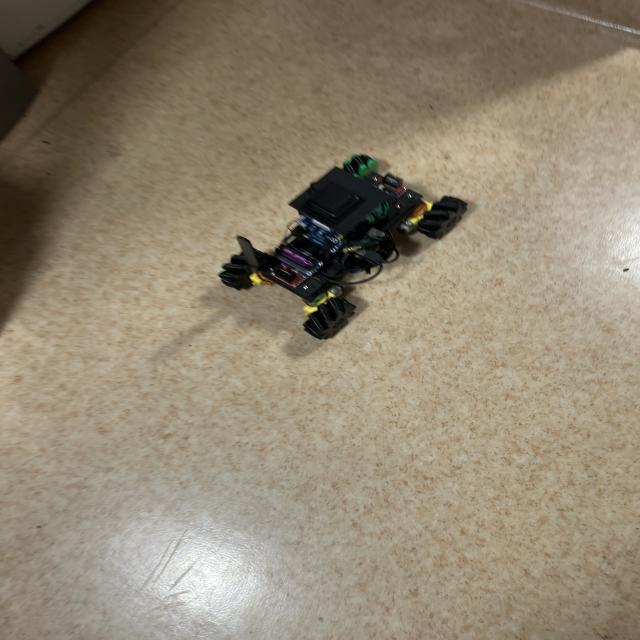robot: (219, 155, 467, 339)
